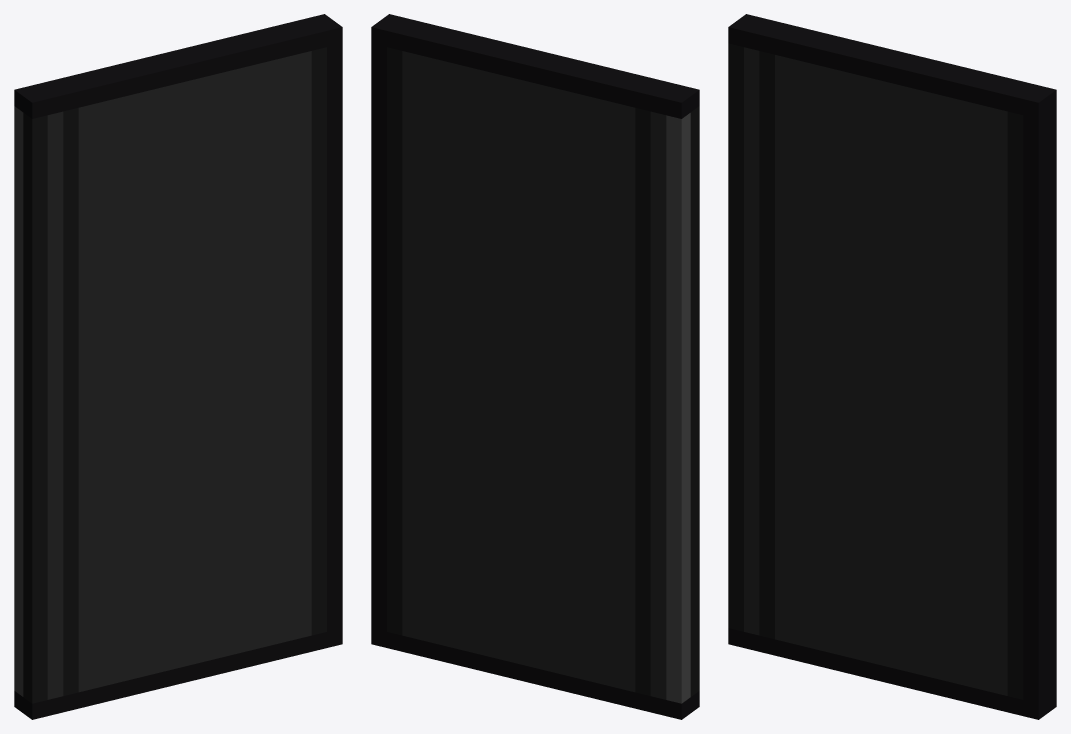
The model's file is mesh_prop_door.obj.
3 views of the same model, side by side, from view 1: azimuth 30°, elevation 25°; view 2: azimuth 150°, elevation 25°; view 3: azimuth 330°, elevation 25° (orthographic).
Size of the model in its own units: 2 by 3.8 by 0.2.
1 material, 1 textured.
